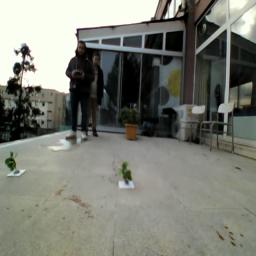herb: (120, 162, 133, 186), (6, 152, 18, 172)
